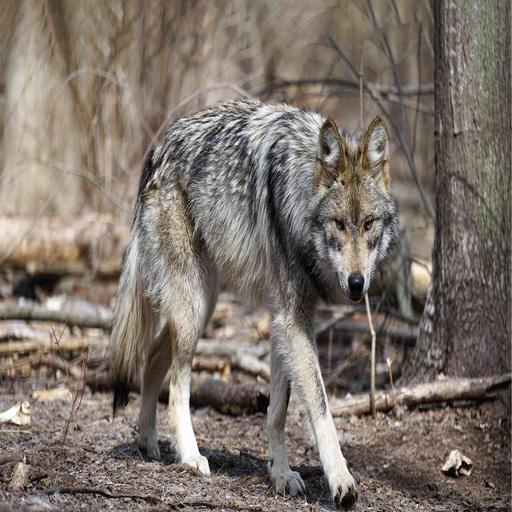Wolf: (84, 74, 403, 512)
